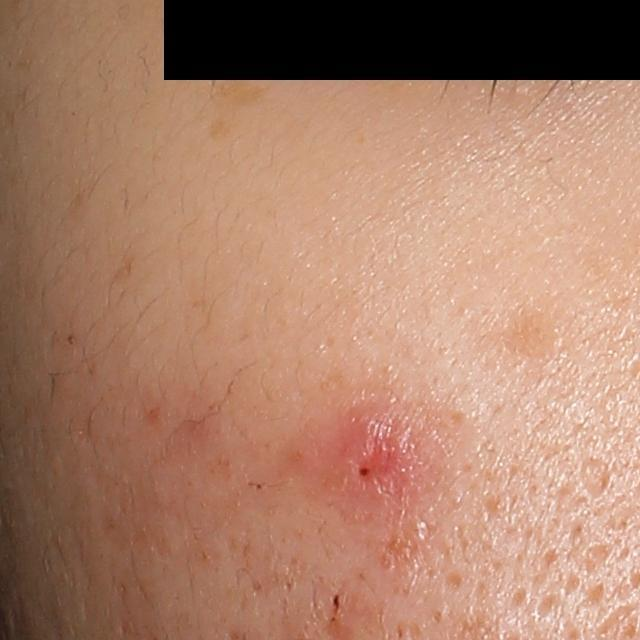atrophic_scar: (579, 453, 616, 501)
melasma: (210, 59, 273, 140)
papule: (321, 395, 427, 513)
